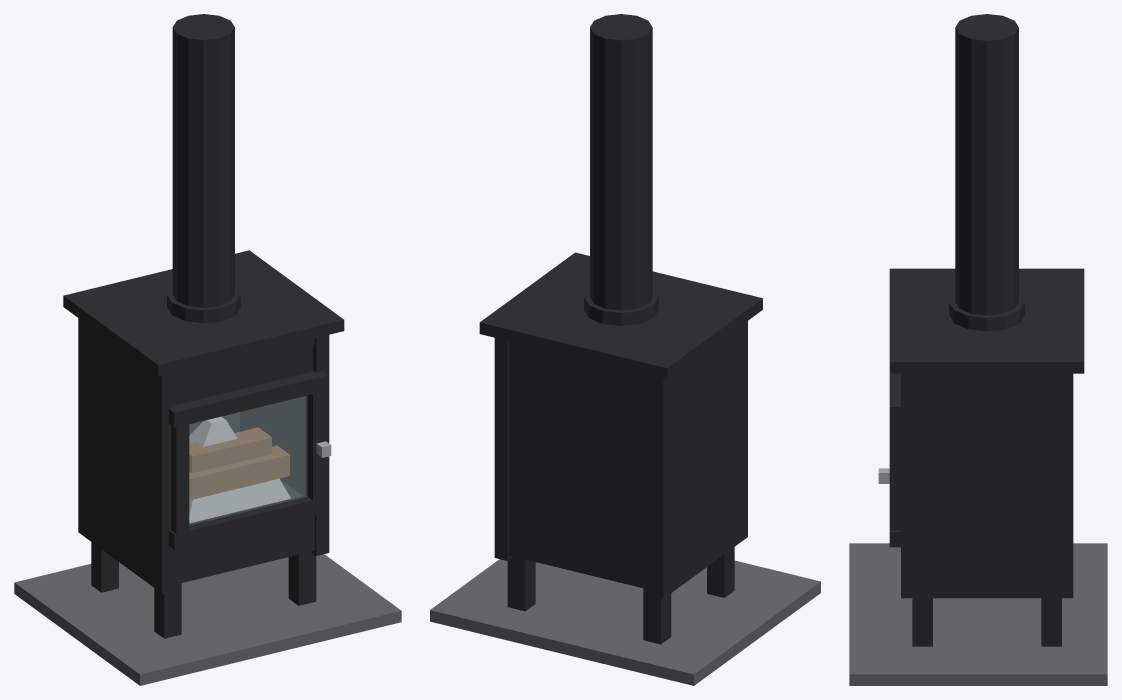
Rendered from FN_Stove_Wood.obj.
The picture shows the model from 3 angles, left to right: view 1: azimuth 30°, elevation 25°; view 2: azimuth 150°, elevation 25°; view 3: azimuth 270°, elevation 25°; orthographic projection. The views are drawn at different scales.
Visible parts, largest first — view 1: FN_Stove_Wood; view 2: FN_Stove_Wood; view 3: FN_Stove_Wood.
Part boxes in pixels (box(x1,y1,x2,y2)): FN_Stove_Wood: box(14, 14, 401, 685); FN_Stove_Wood: box(430, 14, 820, 685); FN_Stove_Wood: box(849, 14, 1107, 685).
Size of the model in its own units: 0.72 by 1.52 by 0.6.
Materials: 3 (1 with a texture image).
